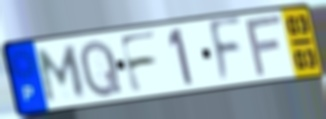1: (167, 26, 197, 88)
F: (117, 29, 160, 96), (243, 12, 285, 80), (207, 14, 245, 88)
M: (36, 43, 88, 105)
Q: (78, 37, 125, 100)
